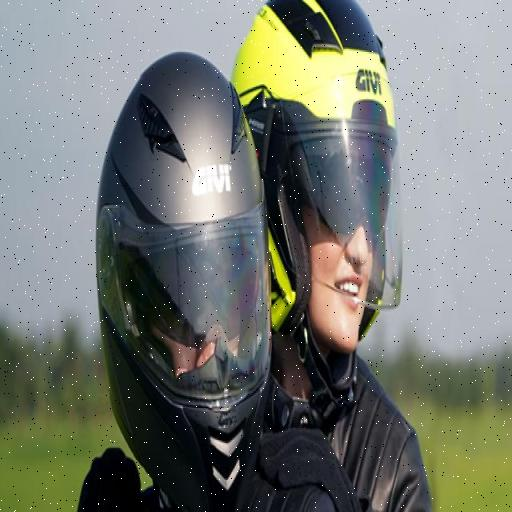Helmet: (96, 53, 270, 511), (232, 0, 401, 415)
